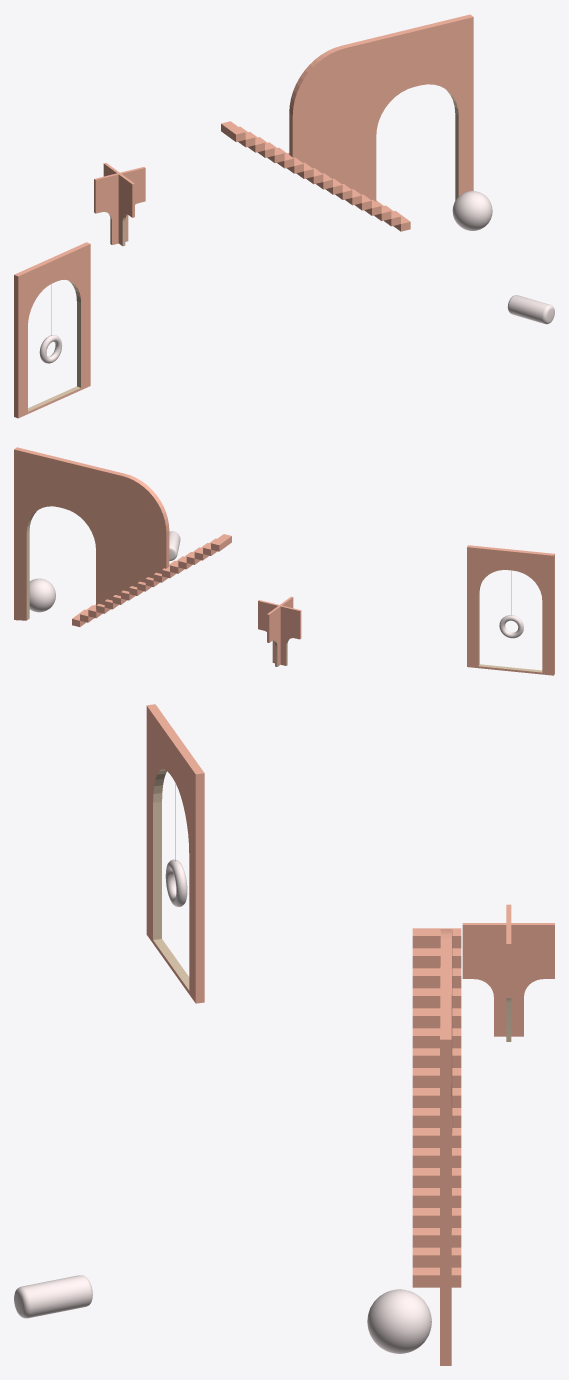
The model's file is Candy_Housesetup.glb.
The picture shows the model from 3 angles, top to bottom: view 1: azimuth 30°, elevation 25°; view 2: azimuth 150°, elevation 25°; view 3: azimuth 270°, elevation 25°; orthographic projection. The views are drawn at different scales.
Parts seen in each view (by area): view 1: Cube.005, Cube.006, Cube.007, Cube.008, Cube.002; view 2: Cube.005, Cube.006, Cube.007, Cube.008; view 3: Cube.005, Cube.006, Cube.007, Cube.008, Cube.002.
Boxes of the visible parts, left/top/right/bottom form: Cube.005: left=221, top=14, right=473, bottom=231; Cube.006: left=14, top=242, right=90, bottom=418; Cube.007: left=94, top=163, right=145, bottom=246; Cube.008: left=452, top=191, right=492, bottom=230; Cube.002: left=507, top=295, right=554, bottom=324; Cube.005: left=14, top=447, right=231, bottom=626; Cube.006: left=467, top=545, right=554, bottom=675; Cube.007: left=258, top=596, right=301, bottom=666; Cube.008: left=29, top=578, right=55, bottom=612; Cube.005: left=412, top=928, right=461, bottom=1365; Cube.006: left=146, top=704, right=204, bottom=1003; Cube.007: left=462, top=904, right=554, bottom=1041; Cube.008: left=367, top=1289, right=431, bottom=1353; Cube.002: left=14, top=1275, right=92, bottom=1318.
Size of the model in its own units: 121 by 42.52 by 63.92.
